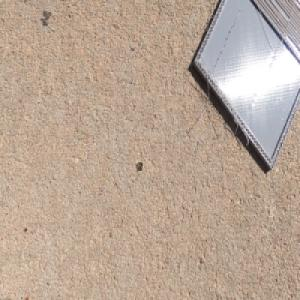PlasticPart: (192, 0, 300, 174)
